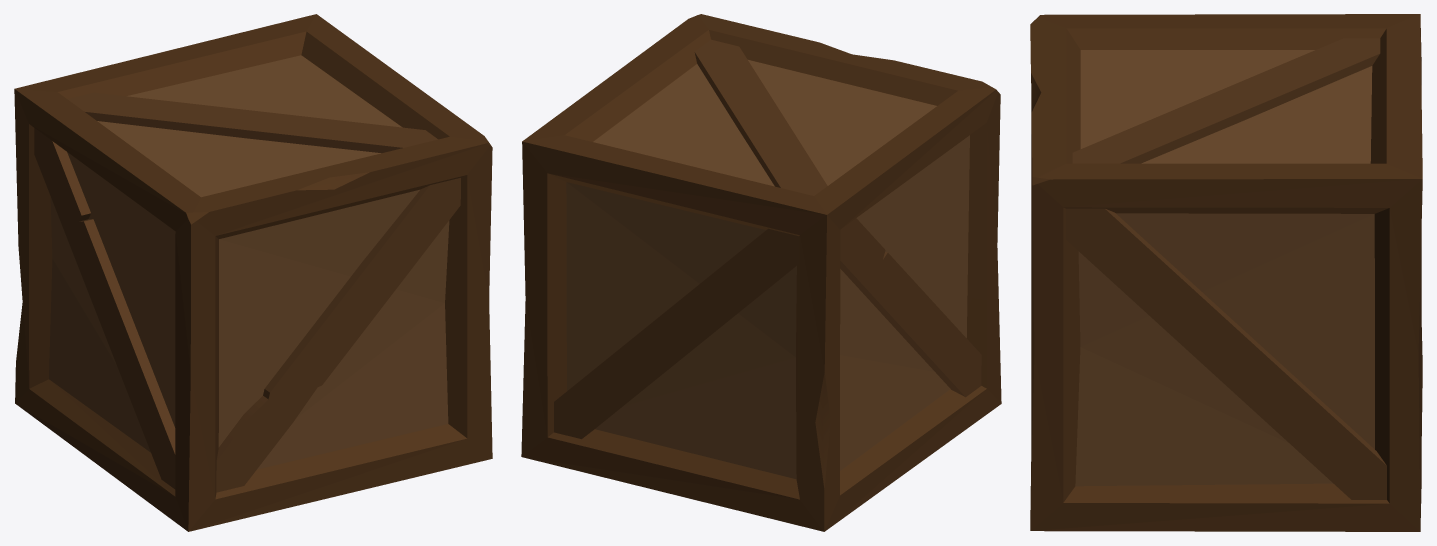
3 renders of one model, left to right at view 1: azimuth 30°, elevation 25°; view 2: azimuth 150°, elevation 25°; view 3: azimuth 270°, elevation 25°, orthographic. The views are drawn at different scales.
Parts seen in each view (by area): view 1: Box_01; view 2: Box_01; view 3: Box_01.
Boxes of the visible parts, x1,y1,x2,y2 form: Box_01: (14,14,492,531); Box_01: (521,14,1001,531); Box_01: (1030,14,1422,531).
Size of the model in its own units: 0.7436 by 0.7401 by 0.7437.
1 material, 1 textured.
